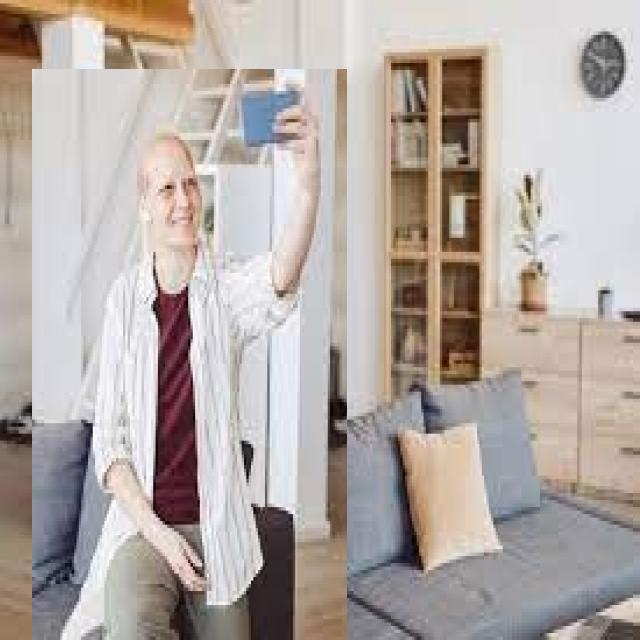NotFall: (50, 86, 319, 636)
